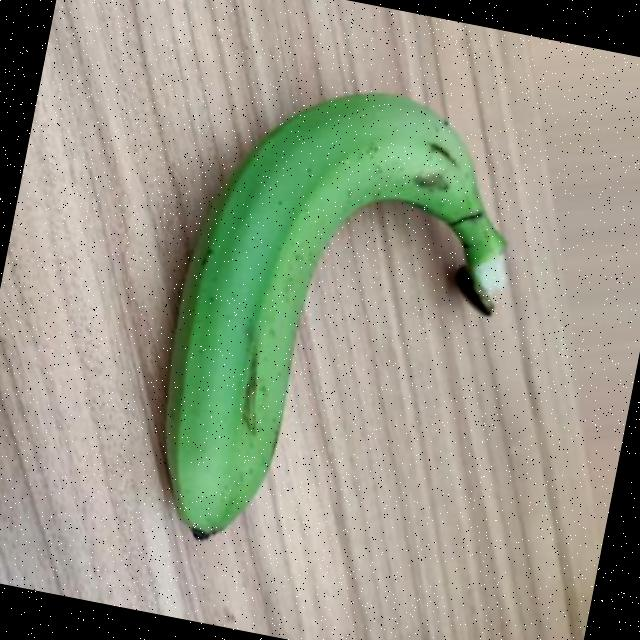Unripe: (135, 60, 540, 590)
